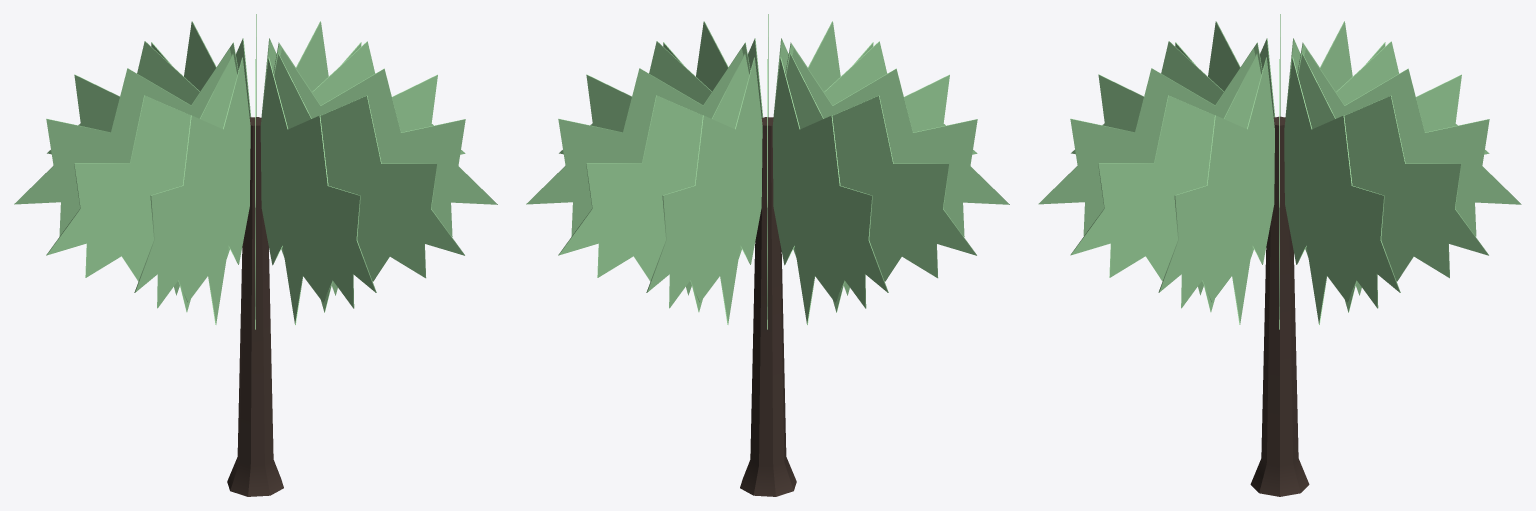
The model's file is tree2.fbx.
3 views of the same model, side by side, from view 1: azimuth 30°, elevation 25°; view 2: azimuth 150°, elevation 25°; view 3: azimuth 270°, elevation 25° (orthographic).
Parts seen in each view (by area): view 1: polySurface1; view 2: polySurface1; view 3: polySurface1.
Boxes of the visible parts, left/top/right/bottom form: polySurface1: left=14, top=14, right=497, bottom=496; polySurface1: left=526, top=14, right=1009, bottom=496; polySurface1: left=1038, top=14, right=1521, bottom=496.
Size of the model in its own units: 782 by 779 by 782.
